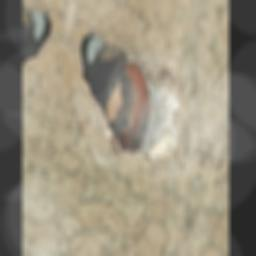Swallow: (73, 42, 159, 159)
